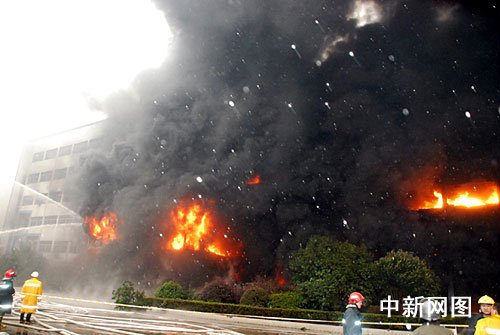fire: (158, 181, 248, 265), (400, 162, 500, 214), (80, 199, 124, 245)
